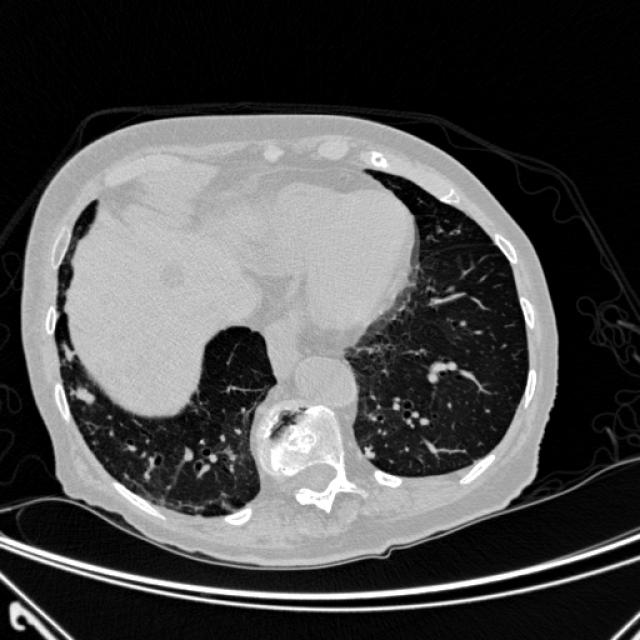nodule: (65, 375, 103, 413)
